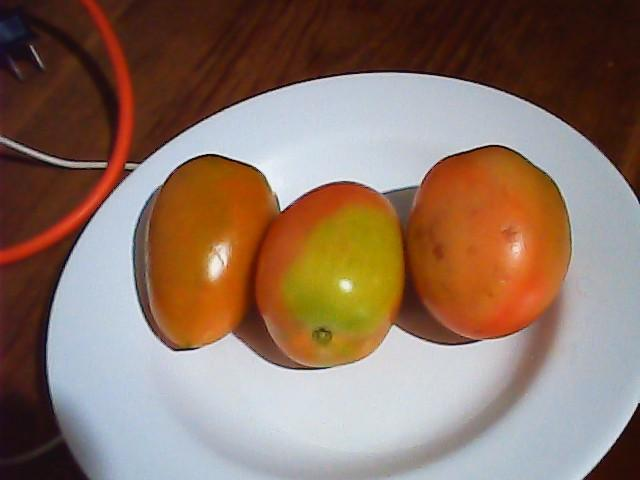verde: (254, 180, 406, 372)
